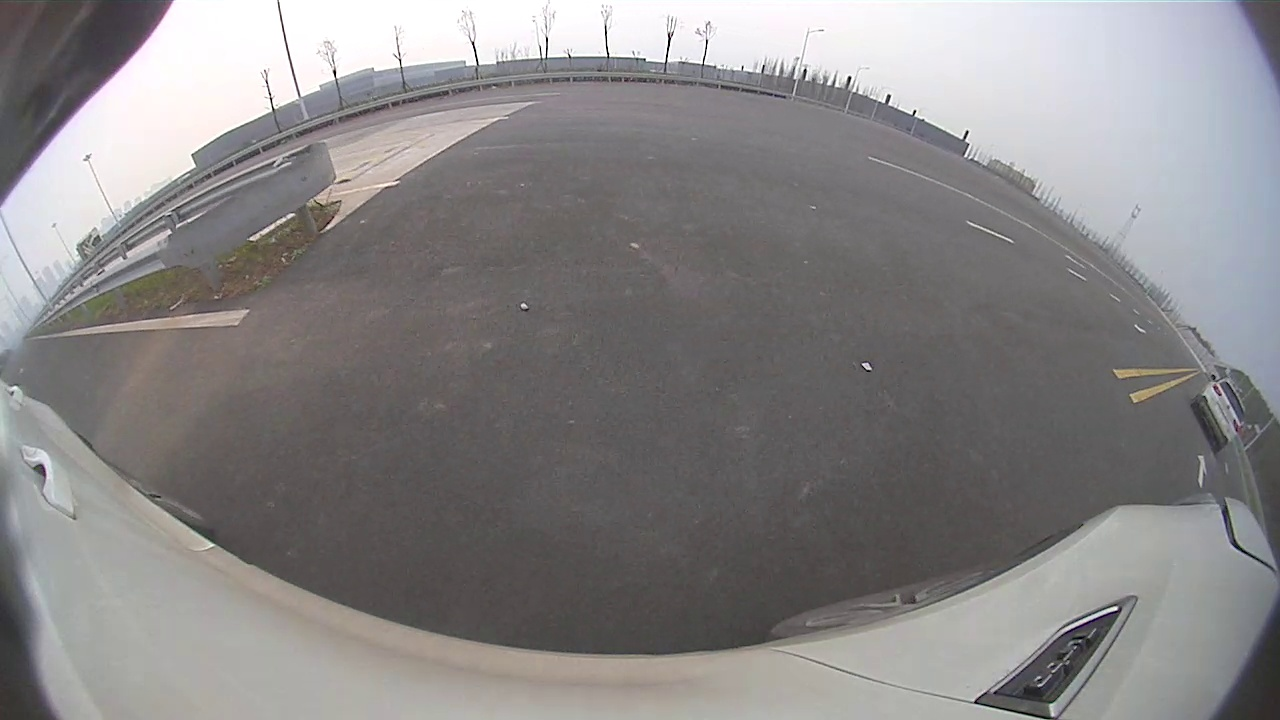car: (450, 123, 601, 232)
rear: (555, 181, 575, 222)
